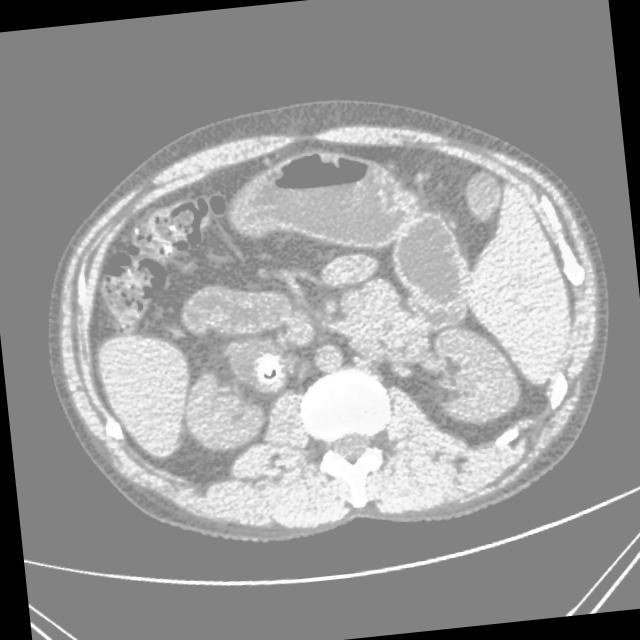STONE: (47, 109, 439, 376)
